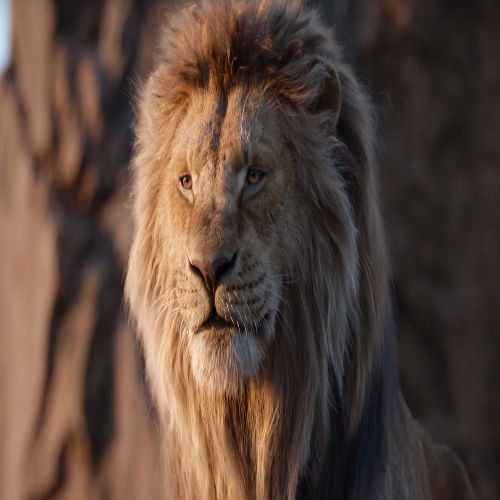lion: (81, 3, 482, 497)
